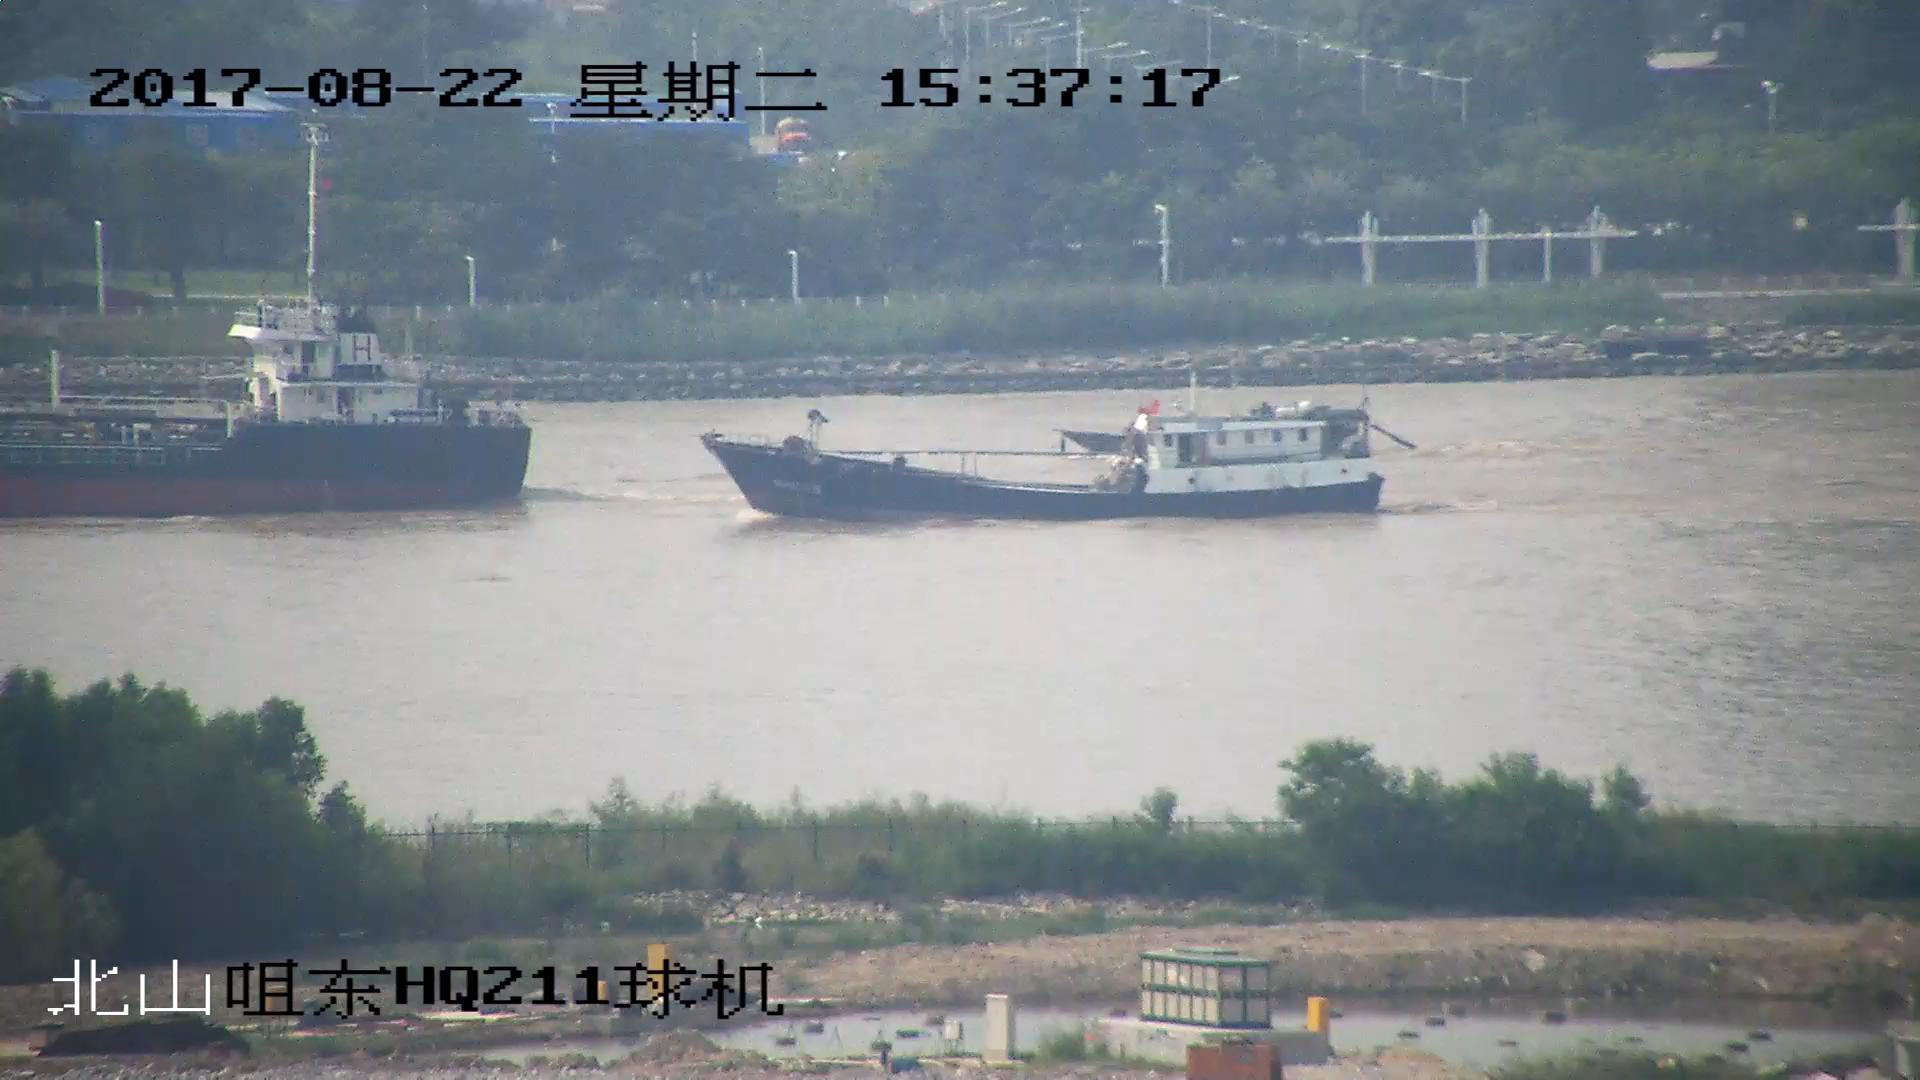fishing boat: (704, 412, 1397, 524), (1059, 422, 1123, 450)
general cargo ship: (1, 123, 540, 520)
